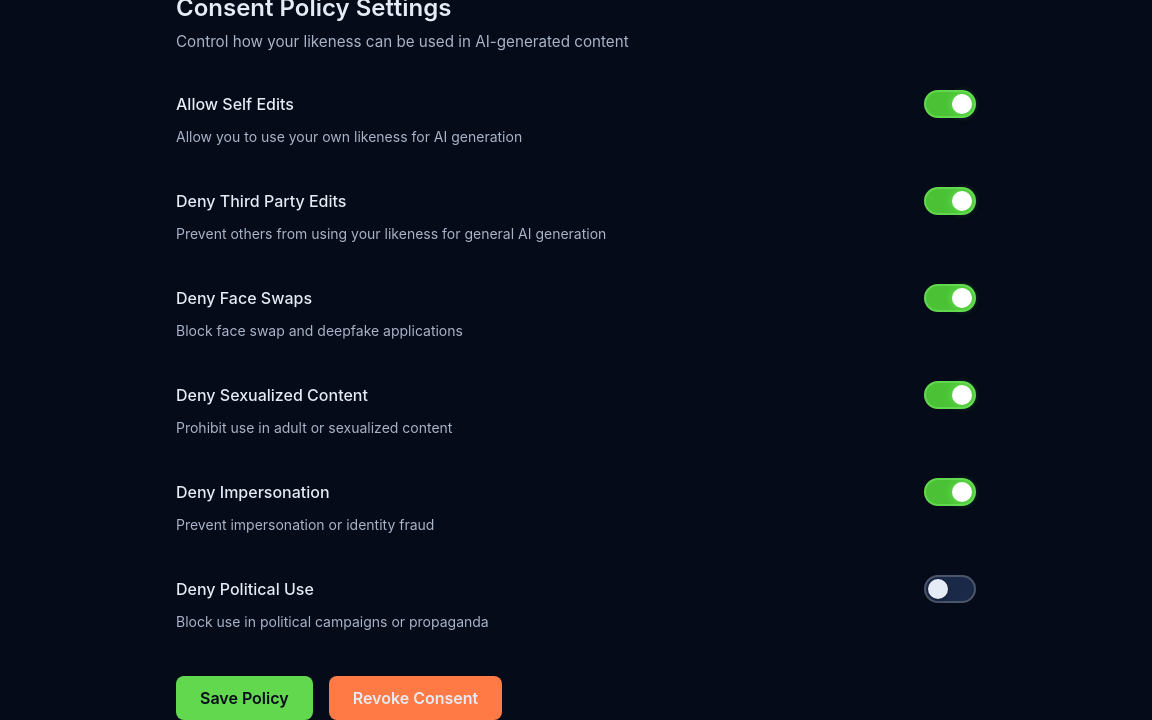
Test: PolicyForm › shows confirmation dialog when Revoke button is clicked
The width and height of the screenshot is (1152, 720).
Click the button "Revoke Consent" at (415, 698), box [329,676,502,719]
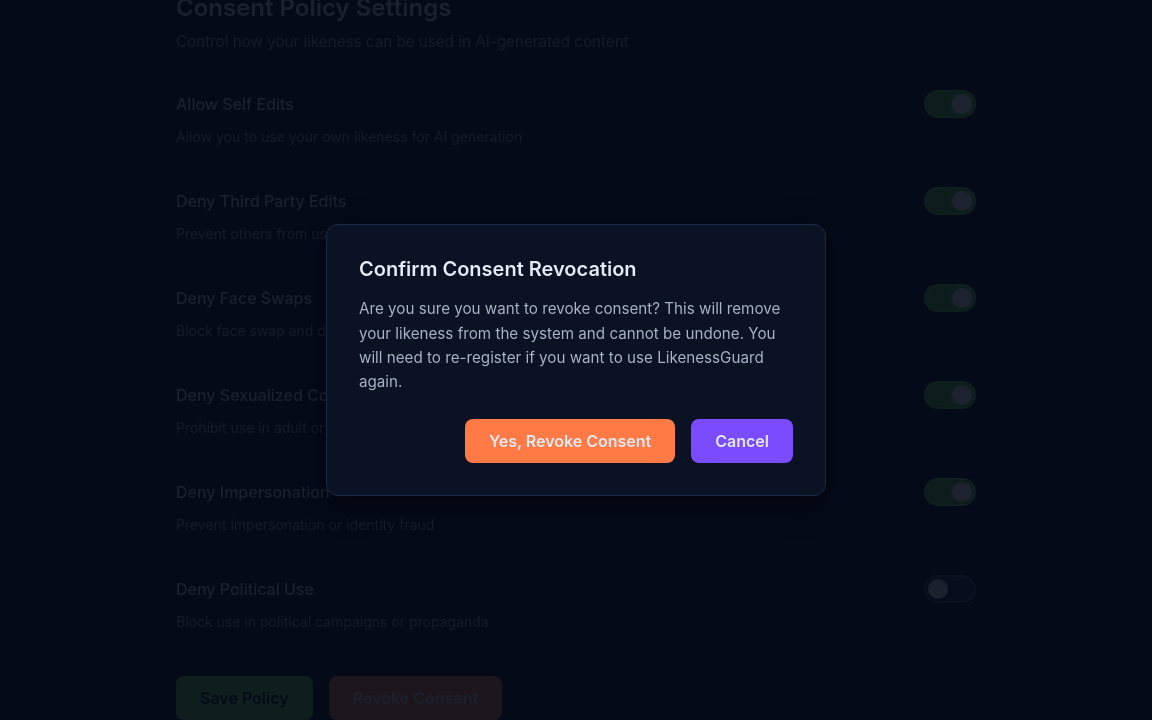
Expected: the dialog is shown
Expected: the heading "Confirm Consent Revocation" is shown, [359,257,637,281]
